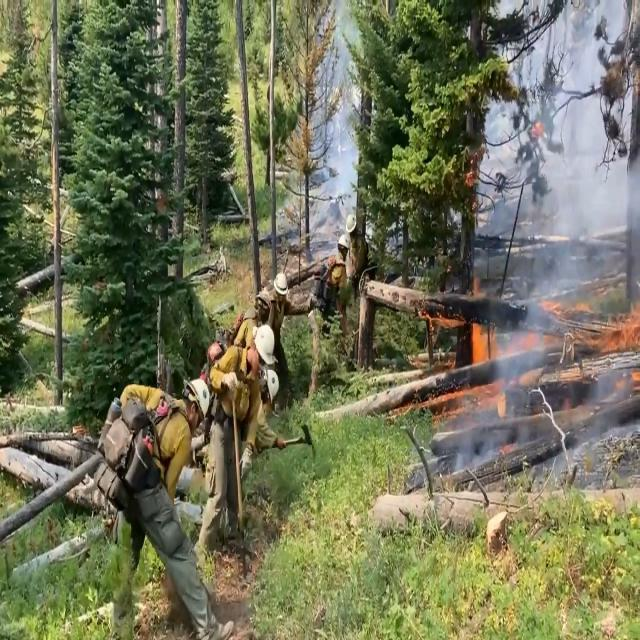Fire: (406, 274, 636, 426)
